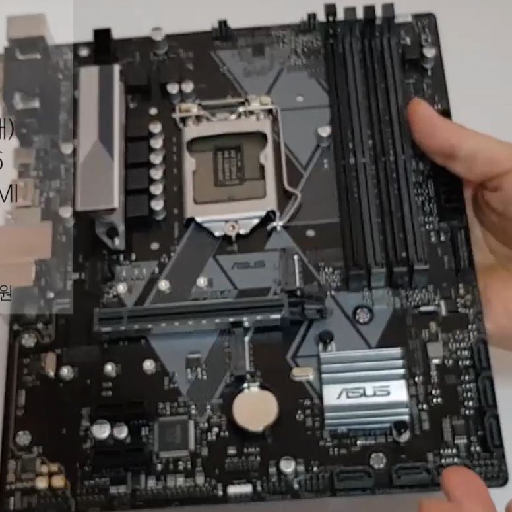CPU: (176, 97, 276, 237)
GPU: (91, 284, 325, 337)
MOTHERBOARD: (1, 12, 509, 512)
RAM: (322, 4, 429, 289)
SSD: (225, 330, 256, 381), (279, 246, 302, 294)
